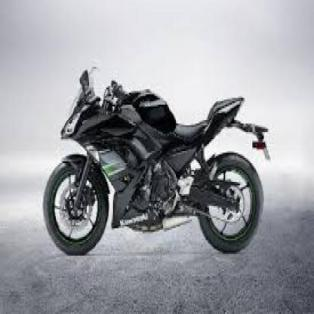Motocicleta: (35, 54, 276, 261)
